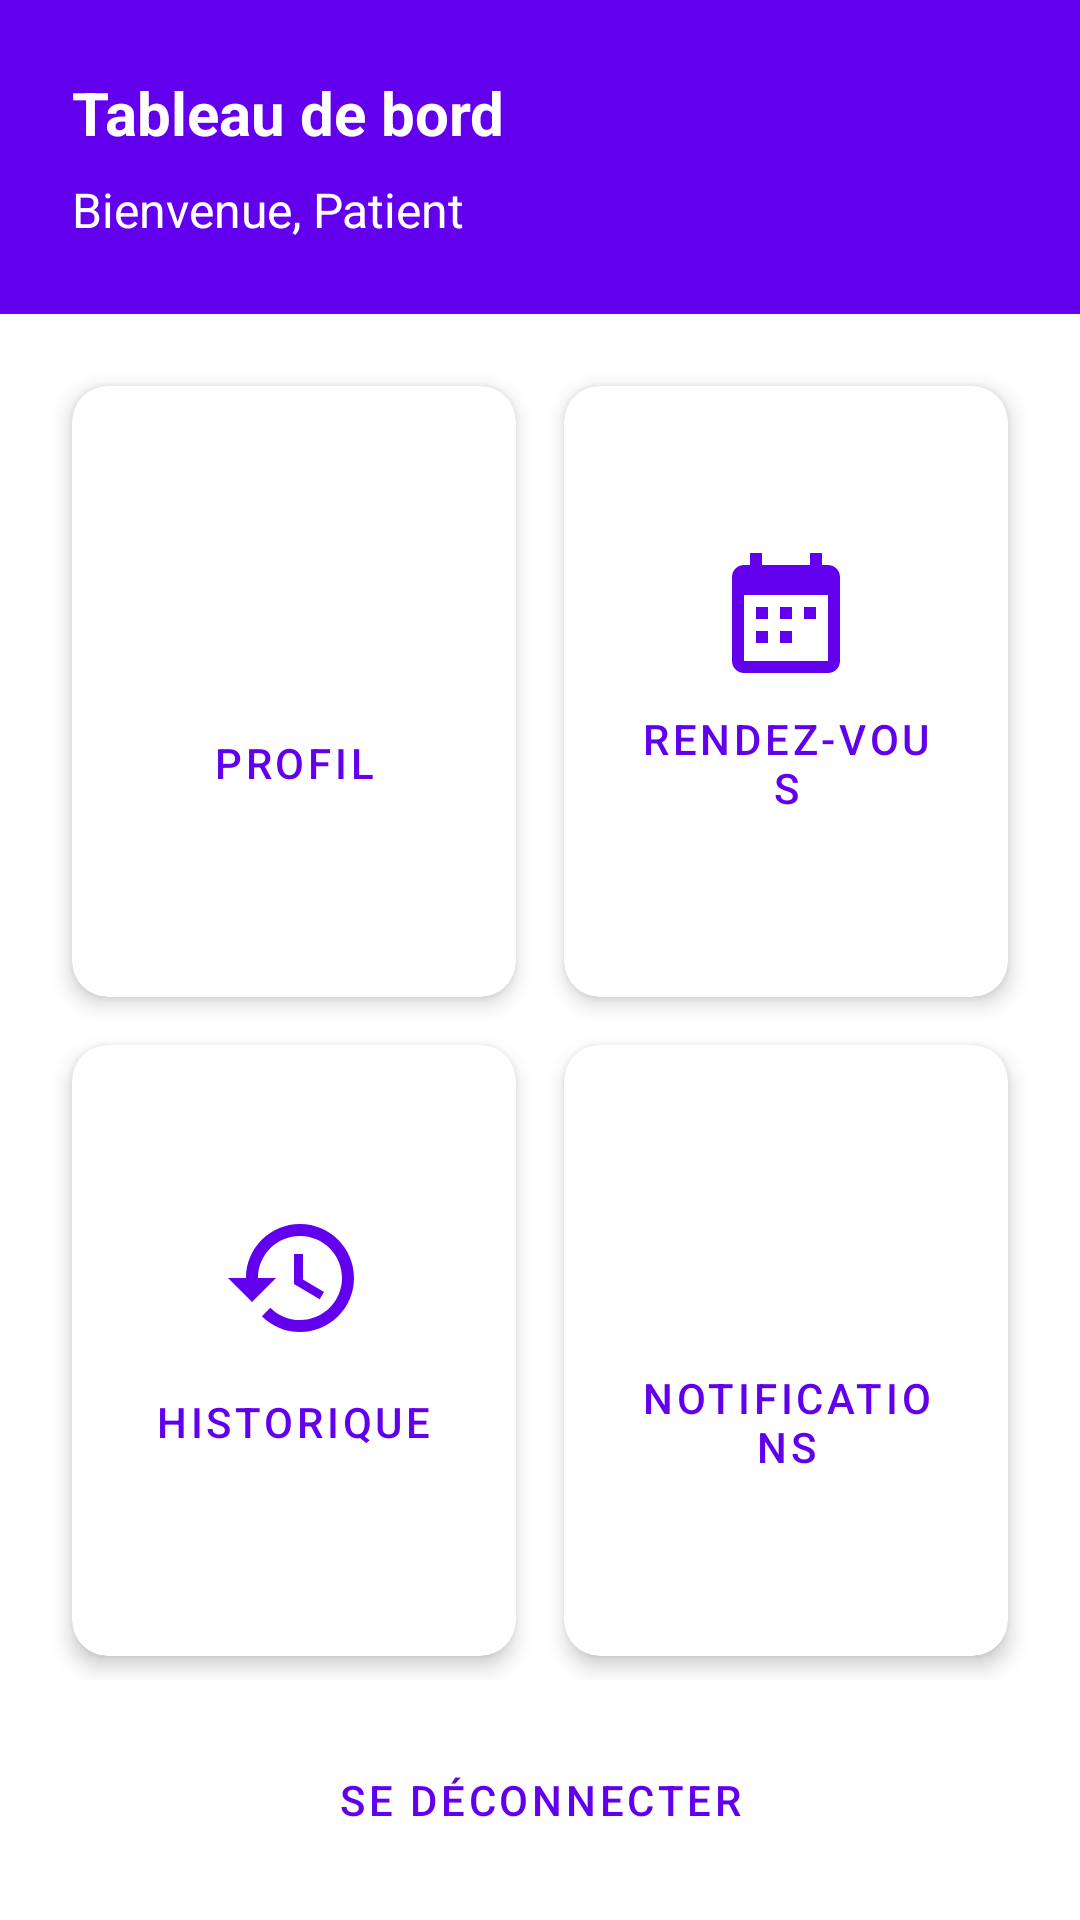

Screen size 1080 x 1920. Icon name, then its box in pixels as (x1, y1, x2, y2):
calendar: (732, 553, 840, 673)
history: (228, 1224, 354, 1332)
